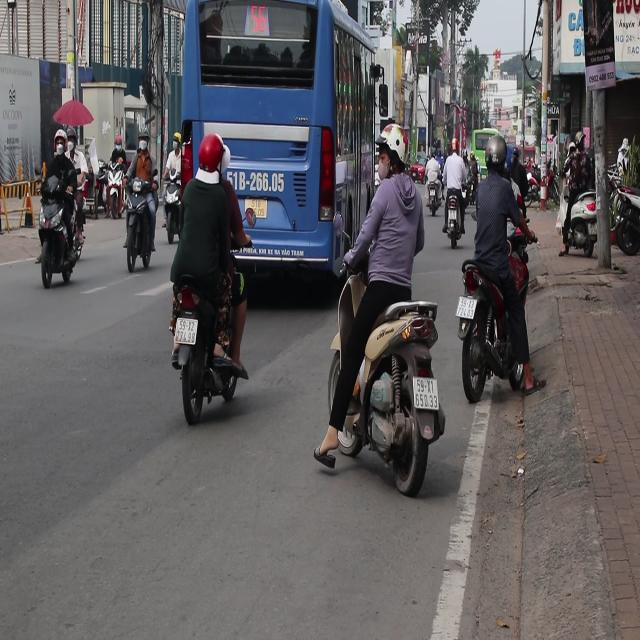bus: (180, 8, 376, 234), (466, 120, 504, 172)
motorbike: (328, 294, 434, 496), (457, 255, 544, 421), (168, 273, 252, 419), (34, 180, 84, 282), (120, 176, 149, 252), (156, 168, 185, 238), (99, 150, 126, 224), (442, 191, 458, 248), (428, 181, 444, 216)
